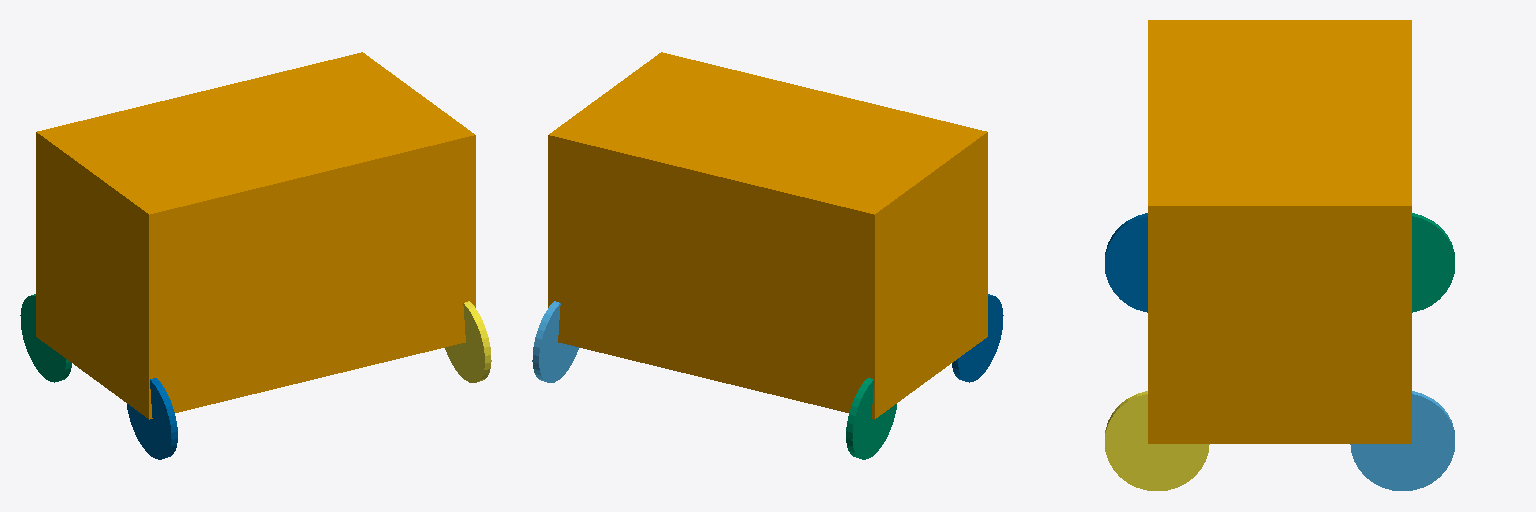
robot.urdf — origins:
<?xml version="1.0"?>
<robot name="origins">
	<link name="base_link">
   		<visual>
     			<geometry>
       				<box size="2.5 1.5 1.5"/>
     			</geometry>
			<origin rpy="0 0 0" xyz="0 0 0.75"/> <!--车体的一半-->
			<material name="Black">
				
			</material>
   		</visual>
		<collision>
			<geometry>
       				<box size="2.5 1.5 1.5"/>
			</geometry>
		</collision>
		<inertial>
			<mass value="100"/>
	 		<inertia ixx="1.0" ixy="0.0" ixz="0.0" iyy="1.0" iyz="0.0" izz="1.0"/>
		</inertial>
				
 	</link>

 	<link name="wheel_1">
   		<visual>
     			<geometry>
       				<cylinder length="0.05" radius="0.3"/>
     			</geometry>
			<origin rpy="0 1.5 0" xyz="1.2 0.7 0"/>
   			<material name="Black">
			</material>
		</visual>
		<collision>
			<geometry>
       				<cylinder length="0.05" radius="0.3"/>
			</geometry>
		</collision>
		<inertial>
			<mass value="10"/>
	 		<inertia ixx="1.0" ixy="0.0" ixz="0.0" iyy="1.0" iyz="0.0" izz="1.0"/>
		</inertial>
 	</link>

 	<link name="wheel_2">
   		<visual>
     			<geometry>
       				<cylinder length="0.05" radius="0.3"/>
     			</geometry>
			<origin rpy="0 1.5 0" xyz="-1.2 0.7 0"/>
   			<material name="Black"/>
   		</visual>
		<collision>
			<geometry>
       				<cylinder length="0.05" radius="0.3"/>
			</geometry>
		</collision>
		<inertial>
			<mass value="10"/>
	 		<inertia ixx="1.0" ixy="0.0" ixz="0.0" iyy="1.0" iyz="0.0" izz="1.0"/>
		</inertial>

 	</link>
    
 	<link name="wheel_3">
   		<visual>
     			<geometry>
       				<cylinder length="0.05" radius="0.3"/>
     			</geometry>
			<origin rpy="0 1.5 0" xyz="1.2 -0.7 0"/>
   			<material name="Black"/>
   		</visual>
		<collision>
			<geometry>
       				<cylinder length="0.05" radius="0.3"/>
			</geometry>
		</collision>
		<inertial>
			<mass value="10"/>
	 		<inertia ixx="1.0" ixy="0.0" ixz="0.0" iyy="1.0" iyz="0.0" izz="1.0"/>
		</inertial>
 	</link>

 	<link name="wheel_4">
   		<visual>
     			<geometry>
       				<cylinder length="0.05" radius="0.3"/>
     			</geometry>
			<origin rpy="0 1.5 0" xyz="-1.2 -0.7 0"/>
   			<material name="Black"/>
   		</visual>
		<collision>
			<geometry>
       				<cylinder length="0.05" radius="0.3"/>
			</geometry>
		</collision>
		<inertial>
			<mass value="10"/>
	 		<inertia ixx="1.0" ixy="0.0" ixz="0.0" iyy="1.0" iyz="0.0" izz="1.0"/>
		</inertial>

 	</link>

 	<joint name="base_to_wheel1" type="fixed">
   		<parent link="base_link"/>
   		<child link="wheel_1"/>
   		<origin xyz="0 0 0"/>
 	</joint>

 	<joint name="base_to_wheel2" type="fixed">
   		<parent link="base_link"/>
   		<child link="wheel_2"/>
   		<origin xyz="0 0 0"/>
 	</joint>

 	<joint name="base_to_wheel3" type="fixed">
   		<parent link="base_link"/>
   		<child link="wheel_3"/>
   		<origin xyz="0 0 0"/>
 	</joint>

 	<joint name="base_to_wheel4" type="fixed">
   		<parent link="base_link"/>
   		<child link="wheel_4"/>
   		<origin xyz="0 0 0"/>
 	</joint>



</robot>

--- Facts derived from the render (not from the file) ---
The picture shows the robot from 3 angles, left to right: view 1: azimuth 30°, elevation 25°; view 2: azimuth 150°, elevation 25°; view 3: azimuth 270°, elevation 25°; orthographic projection.
Model origins with 5 links and 4 joints (4 fixed), rooted at base_link, posed all joints at 0.
Visible links, largest first — view 1: base_link, wheel_4, wheel_3, wheel_2; view 2: base_link, wheel_2, wheel_1, wheel_4; view 3: base_link, wheel_1, wheel_3, wheel_2, wheel_4.
Boxes of the visible links, bbox=[...] form: base_link: bbox=[36, 52, 475, 419]; wheel_4: bbox=[127, 378, 177, 459]; wheel_3: bbox=[445, 301, 491, 382]; wheel_2: bbox=[20, 294, 71, 382]; base_link: bbox=[548, 52, 987, 419]; wheel_2: bbox=[846, 378, 896, 459]; wheel_1: bbox=[532, 301, 578, 382]; wheel_4: bbox=[952, 294, 1003, 382]; base_link: bbox=[1148, 20, 1411, 443]; wheel_1: bbox=[1350, 391, 1454, 490]; wheel_3: bbox=[1105, 391, 1209, 490]; wheel_2: bbox=[1412, 213, 1454, 312]; wheel_4: bbox=[1105, 213, 1147, 312].
Bounding box of the posed robot: 2.5 × 2 × 1.8 m (x, y, z).
Geometry: primitives only (box / cylinder / sphere), no mesh files.